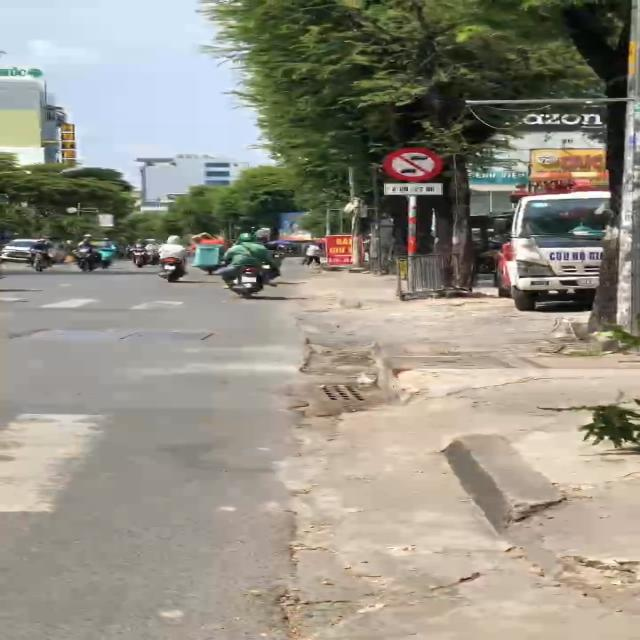Bien bao cam xe oto khach va xe oto tai: (383, 146, 444, 182)
